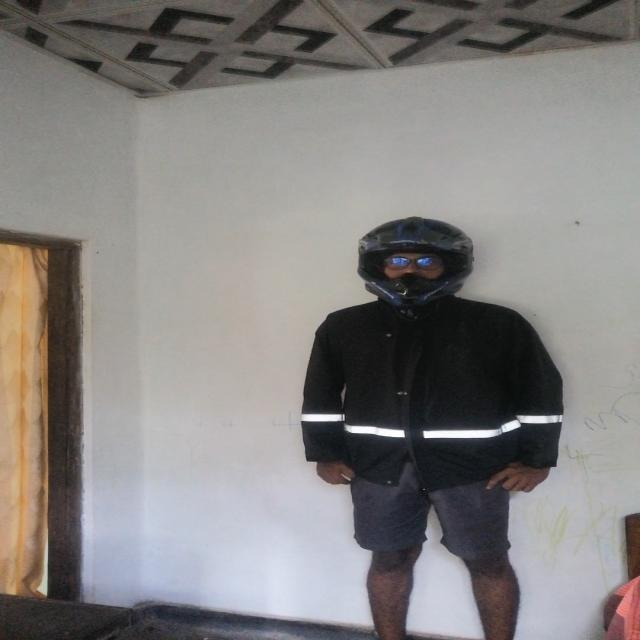Helmet_Wearer: (346, 213, 482, 301)
Jacket_Wearer: (286, 294, 573, 514)
